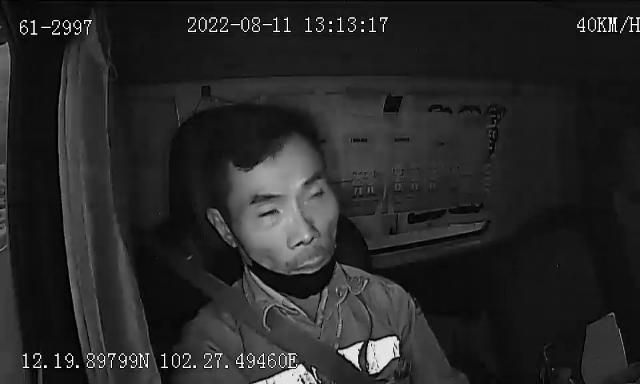SafeDriving: (419, 96, 468, 122), (298, 176, 332, 212), (252, 197, 286, 223)
Seatbelt: (201, 274, 365, 384)
